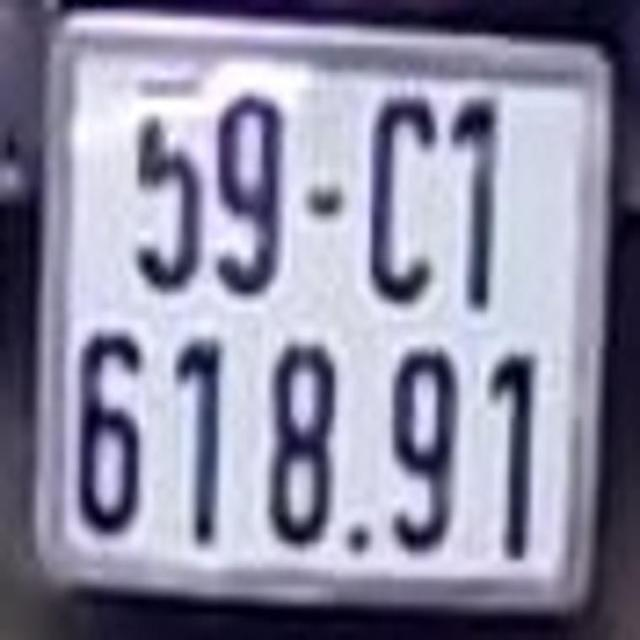1: (483, 348, 541, 563), (448, 94, 503, 313), (172, 335, 225, 546)
5: (131, 73, 205, 292)
6: (77, 328, 144, 536)
8: (268, 338, 335, 546)
9: (214, 88, 284, 297), (388, 343, 457, 553)
C: (366, 92, 440, 305)
